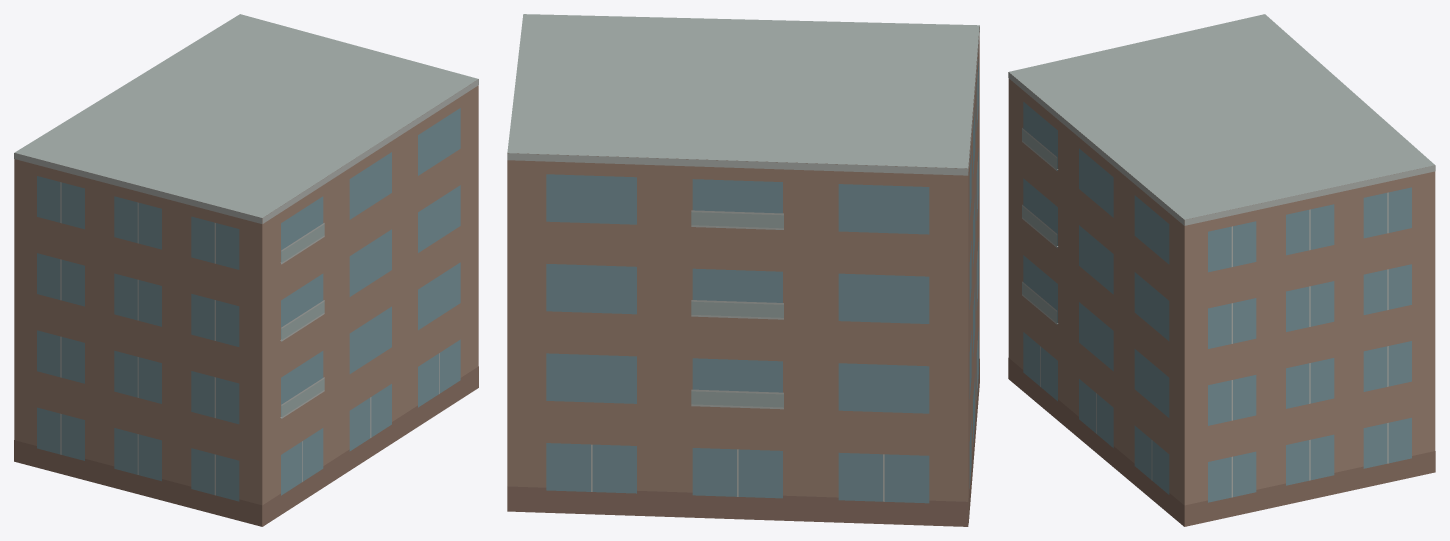
The model's file is survey-upis-32772693.glb.
The picture shows the model from 3 angles, left to right: view 1: azimuth 30°, elevation 25°; view 2: azimuth 150°, elevation 25°; view 3: azimuth 270°, elevation 25°; orthographic projection. The views are drawn at different scales.
Visible parts, largest first — view 1: survey-upis-32772693.tmp; view 2: survey-upis-32772693.tmp; view 3: survey-upis-32772693.tmp.
Part boxes in pixels (<box>): survey-upis-32772693.tmp: <box>14,14,478,526</box>; survey-upis-32772693.tmp: <box>507,14,979,526</box>; survey-upis-32772693.tmp: <box>1008,14,1435,526</box>.
Bounding box in the file's own units: 17.54 × 12.2 × 15.38.
